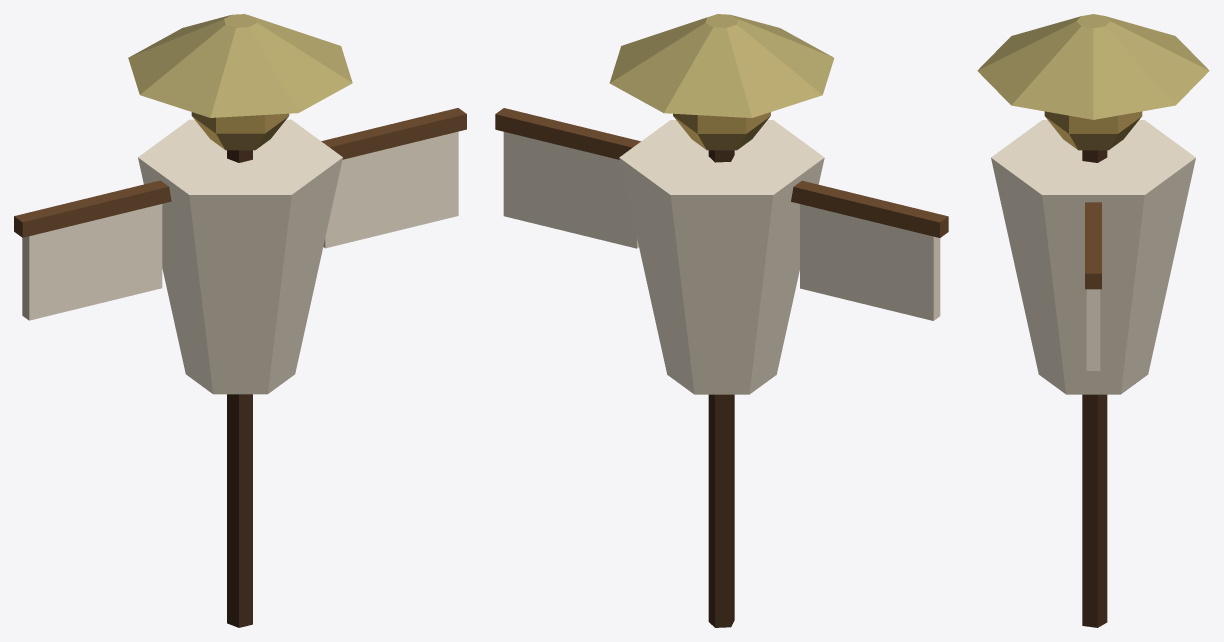
File: prop_scarecrow.glb
3 renders of one model, left to right at view 1: azimuth 30°, elevation 25°; view 2: azimuth 150°, elevation 25°; view 3: azimuth 270°, elevation 25°, orthographic.
Parts seen in each view (by area): view 1: prop_scarecrow; view 2: prop_scarecrow; view 3: prop_scarecrow.
Part boxes in pixels (box(x1,y1,x2,y2)): prop_scarecrow: box(14, 14, 466, 627); prop_scarecrow: box(495, 14, 948, 627); prop_scarecrow: box(977, 14, 1209, 627).
Size of the model in its own units: 1.5 by 1.94 by 0.68.
